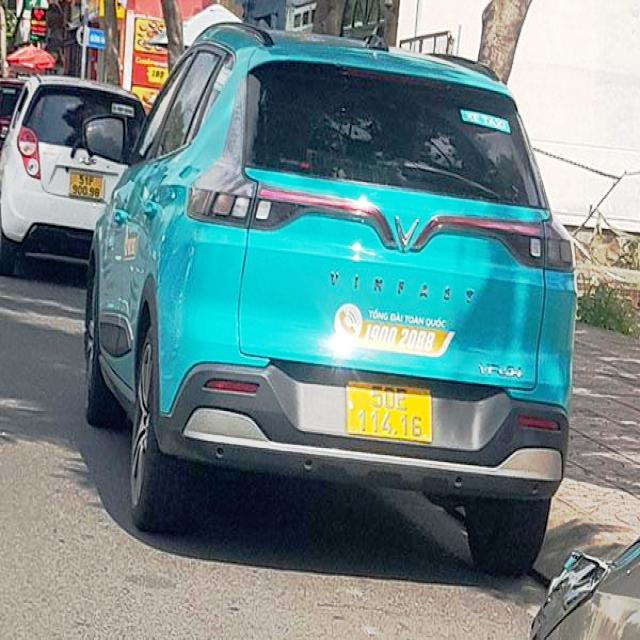license_plate: (348, 380, 432, 443), (70, 173, 105, 201)
